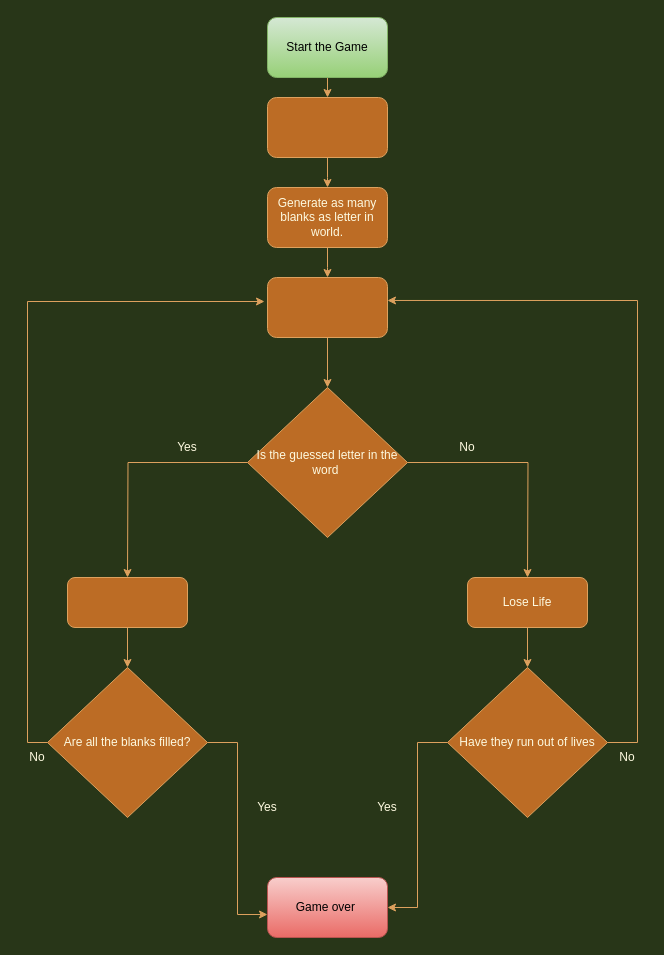
The diagram is 664 pixels wide and 955 high, and some of its shapes have lost their labels. The centre of each missing label's shape, as x and y in pixels:
"Ask the user to guess a letter" goes at (327,307).
"Generate a random word" goes at (327,127).
"Replace the blanks with the letter" goes at (127,602).
